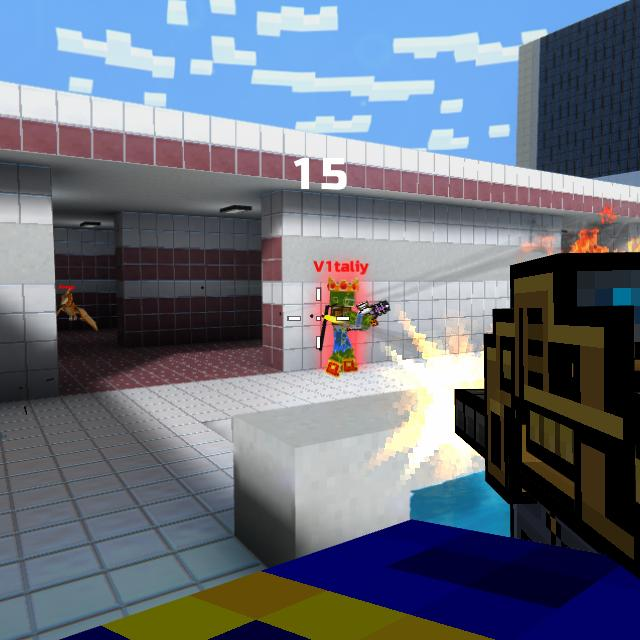Enemy: (324, 276, 372, 378)
